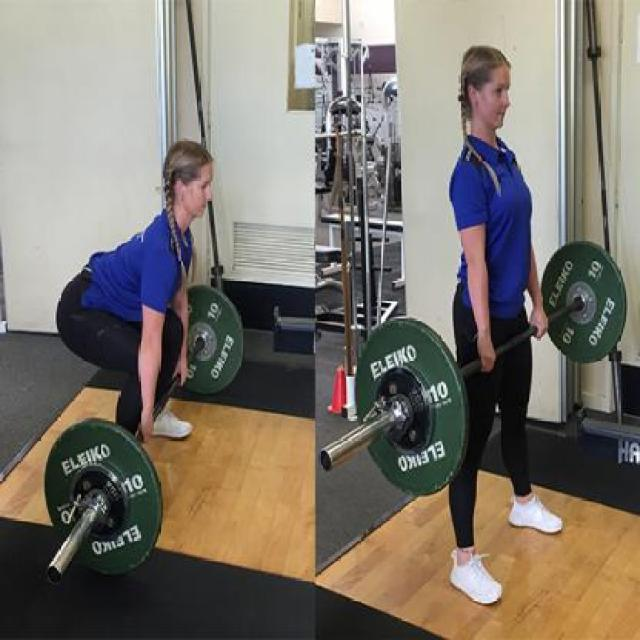Barbell: (43, 562, 65, 588), (318, 446, 334, 476)
